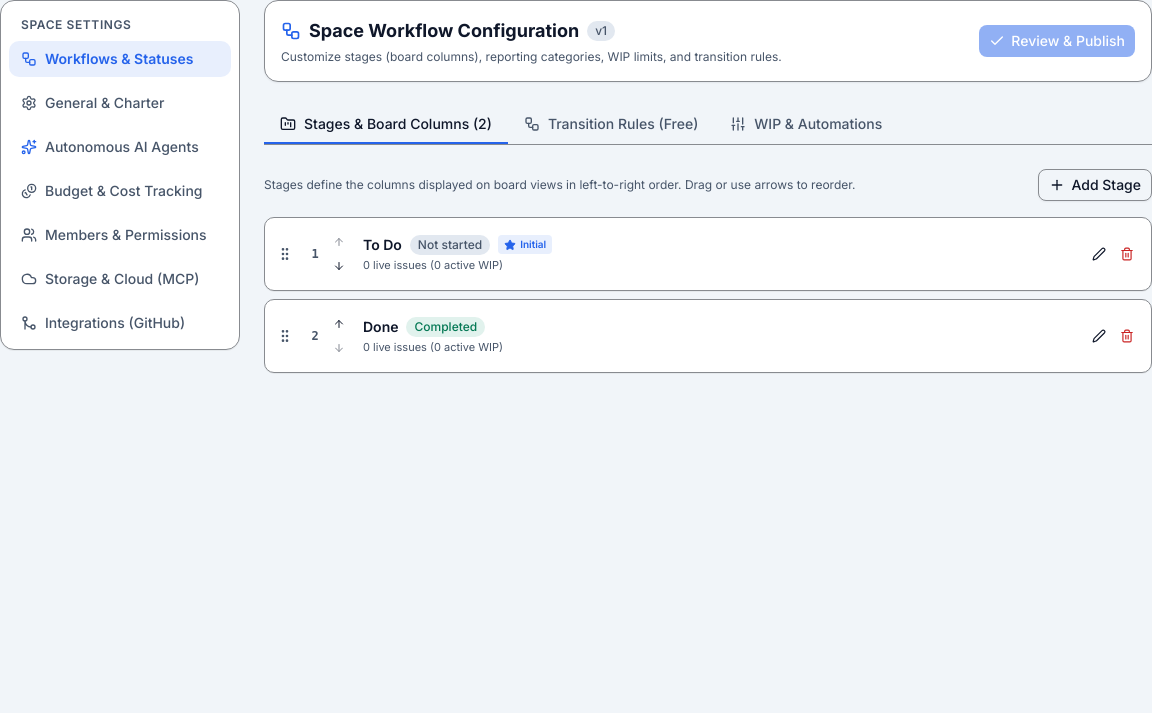
Test case: <SpaceSettings> › General & Charter Section › renders form inputs as disabled for non-manager members
This screenshot has width=1152, height=713.
Click the button "General & Charter". click: coordinates (120, 103)
box: [9,85,231,121]
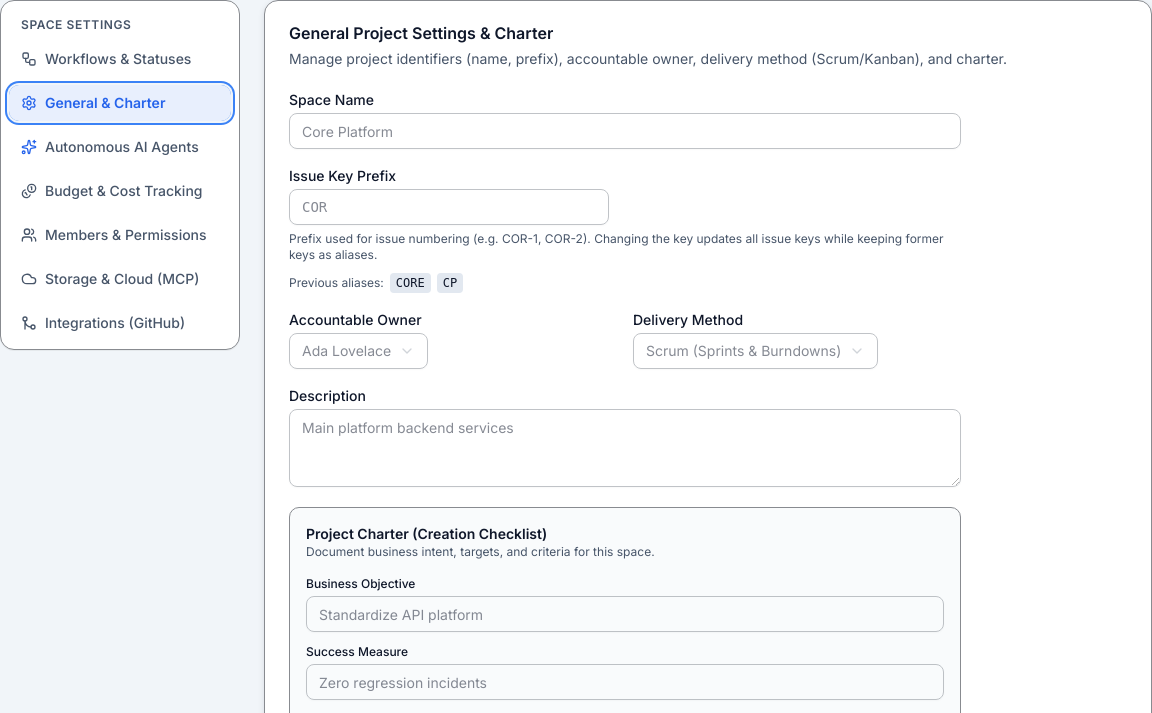
Check: the field labelled "Space Name" is disabled, box [289,113,961,149]
Check: the field labelled "Issue Key Prefix" is disabled, box [289,189,609,225]
